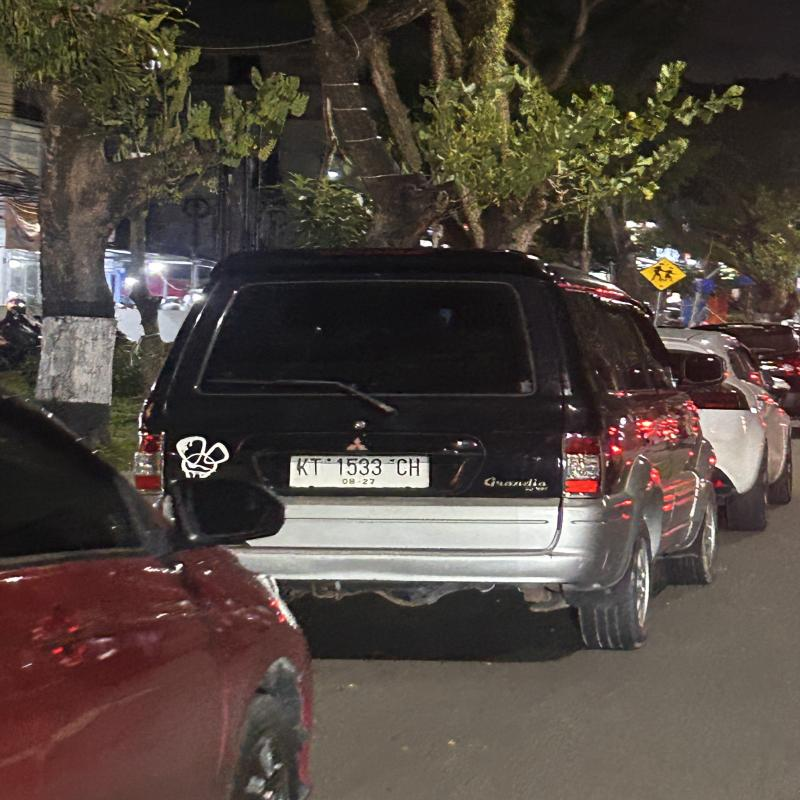license plate on a car: (286, 451, 435, 491)
